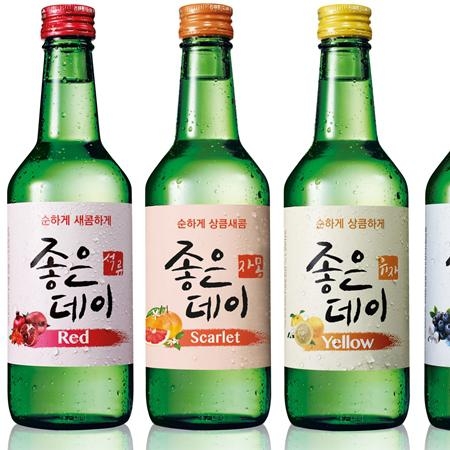soju: (4, 6, 450, 432)
